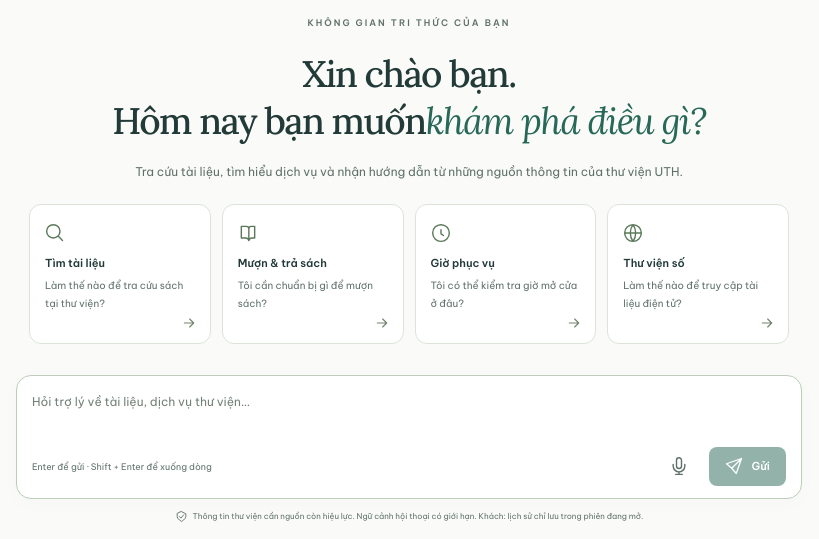
Test case: reader workflows › preserves a failed question for correction and retry
Type "Câu hỏi cần giữ" into the text box named "Câu hỏi của bạn". click: (409, 413)
box: [32,389,786,436]
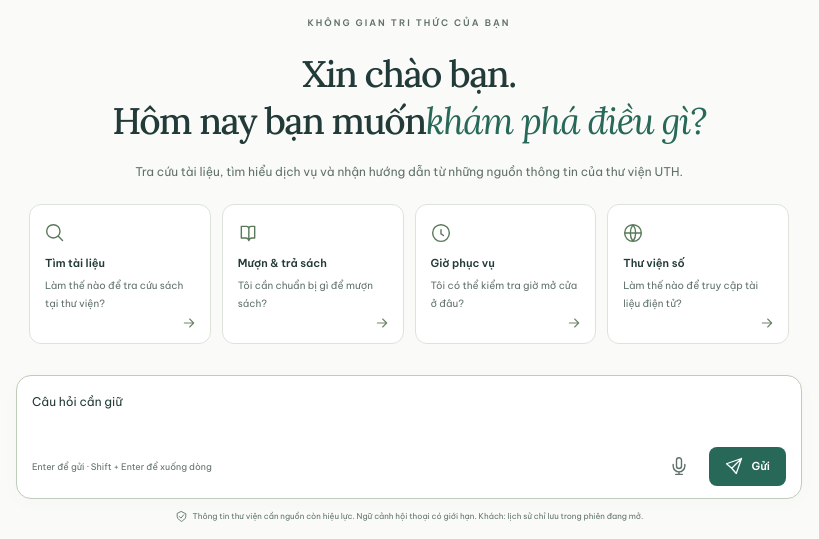
Submit the form named "Gửi câu hỏi", box [16,375,802,499]
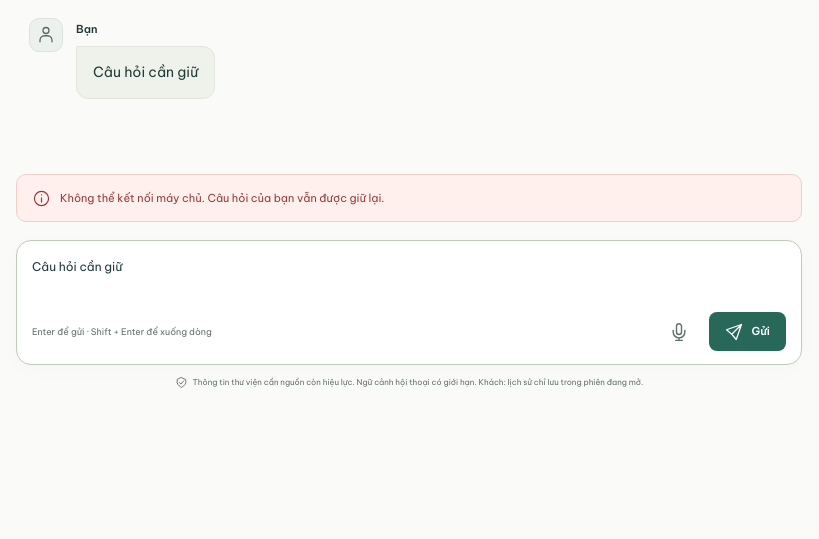
Expected: the message "Không thể kết nối máy chủ. Câu hỏi của bạn vẫn được giữ lại." is shown, [16,174,802,222]
